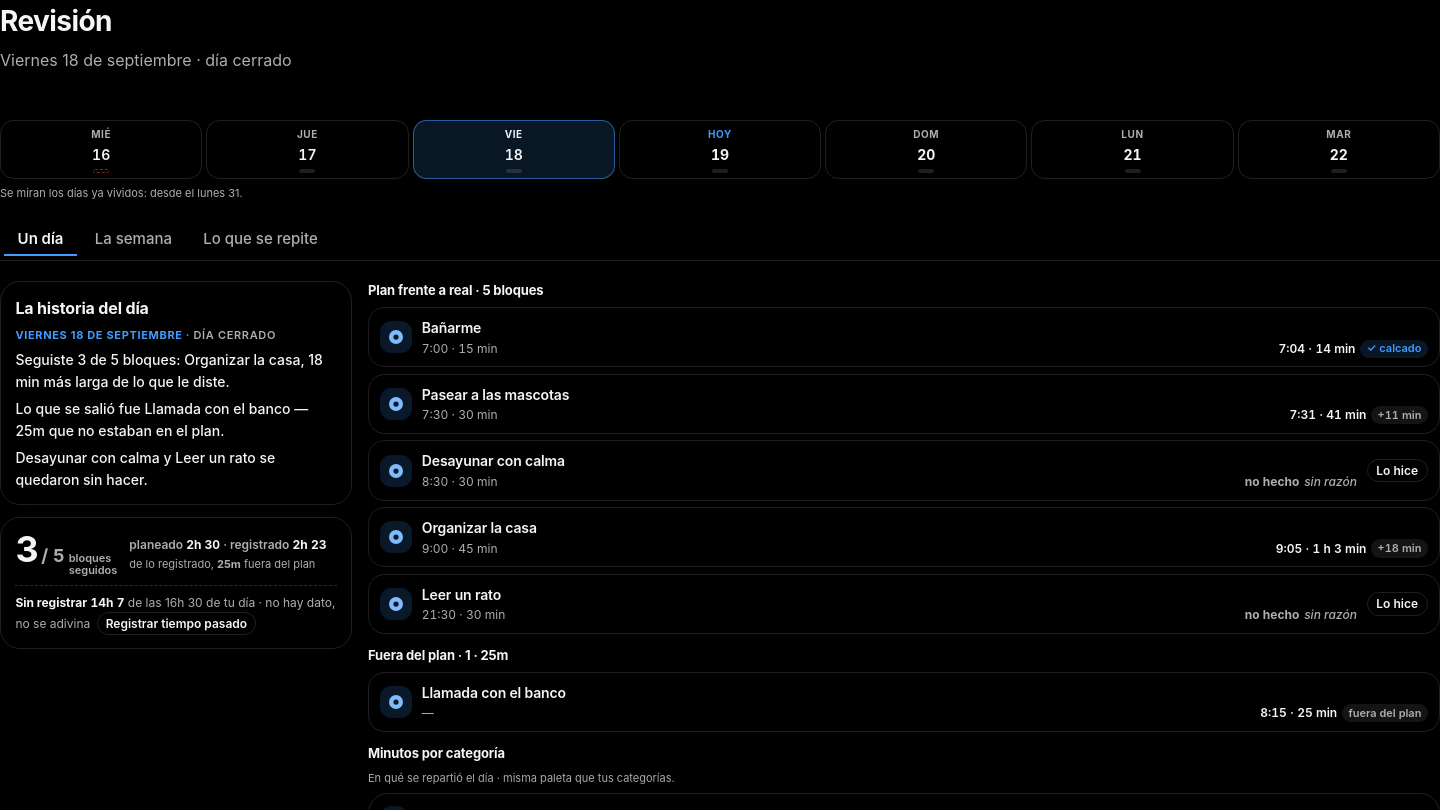
Test: la semana (criterios 45, 46, 47, 48, 49, 51 y 53) › **un día que no cargó lo dice** y la semana ofrece «Reintentar» (52, 60)
Click the tab "La semana" at (133, 239), box [81,221,186,256]
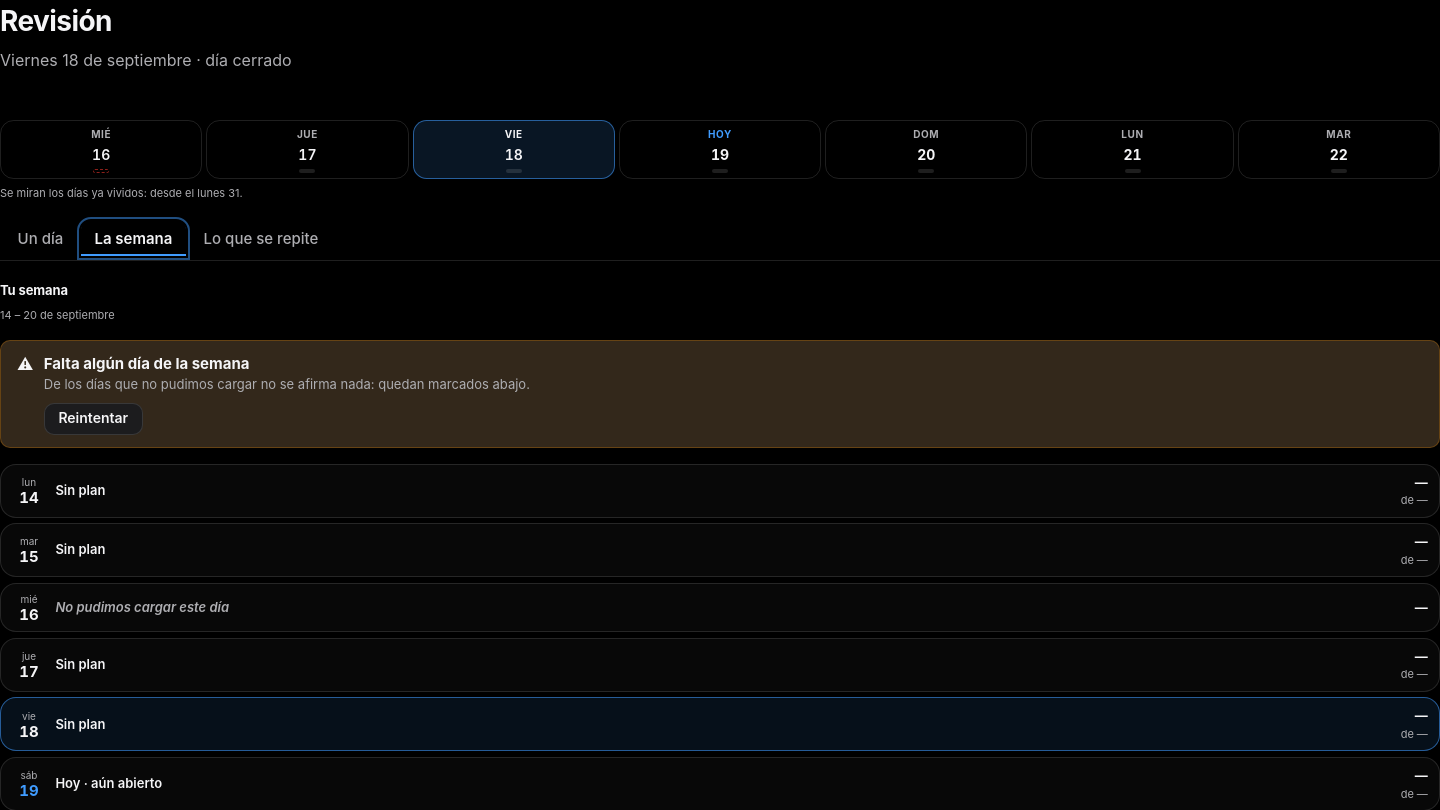
Now the text "No pudimos cargar este día" is shown, box [55,599,229,615]
Now the text "Falta algún día de la semana" is shown, box [44,354,250,373]
Now the button "Reintentar" is shown, box [44,402,143,434]
